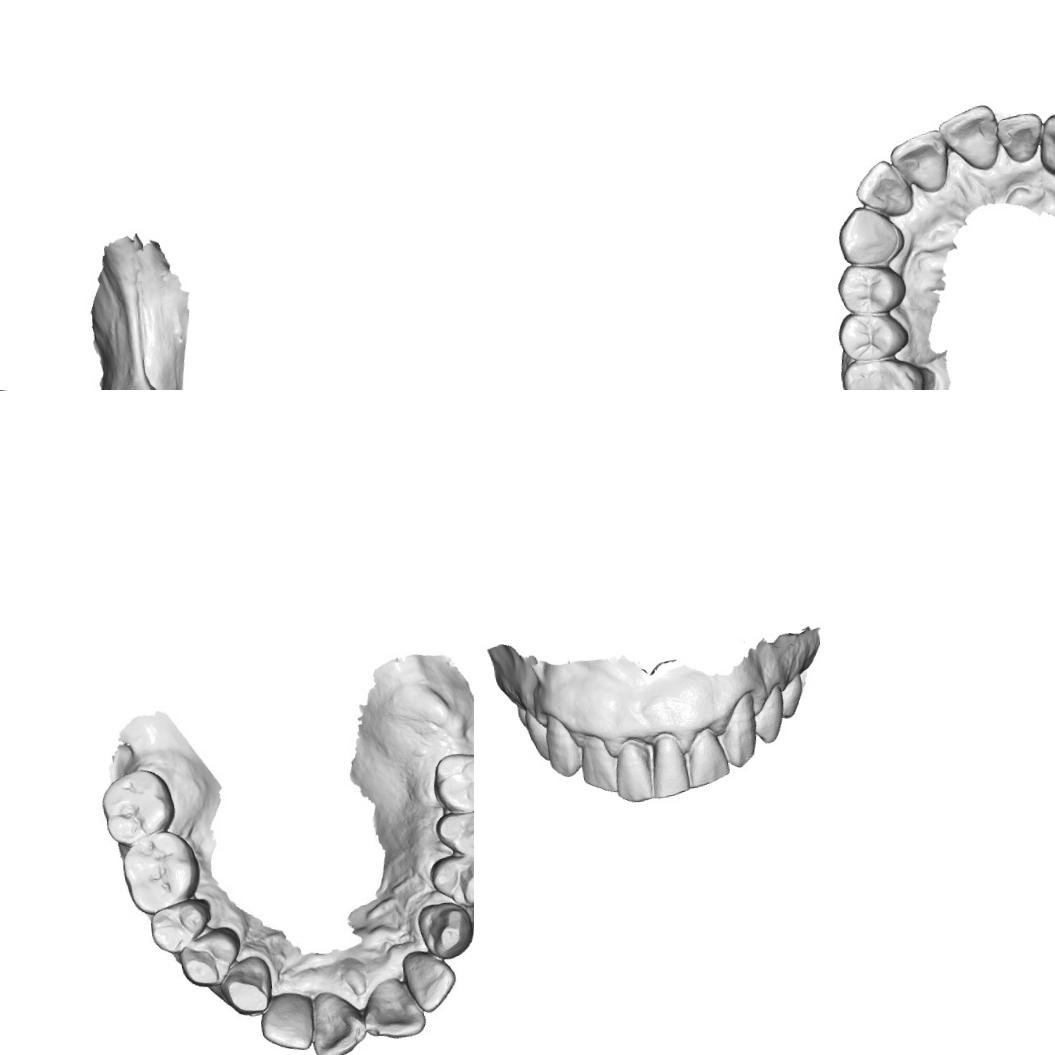canine: (834, 200, 908, 273), (712, 690, 758, 769), (224, 959, 282, 1018), (417, 898, 474, 955), (542, 710, 584, 778), (1034, 107, 1055, 177)
incisor: (933, 102, 1003, 174), (884, 125, 954, 196), (306, 983, 371, 1055), (360, 972, 425, 1042), (396, 945, 457, 1016), (850, 155, 916, 220), (256, 988, 315, 1055), (683, 723, 732, 790), (994, 108, 1047, 168), (610, 734, 656, 803), (647, 730, 690, 800), (577, 731, 620, 795)
molar: (122, 835, 193, 908), (98, 771, 169, 838), (835, 351, 937, 390), (433, 748, 474, 810)
premolar: (833, 306, 915, 364), (832, 259, 909, 317), (181, 931, 241, 982), (147, 900, 208, 950), (750, 682, 786, 744), (431, 852, 474, 902), (436, 806, 474, 860), (524, 705, 550, 763), (774, 672, 804, 719)
